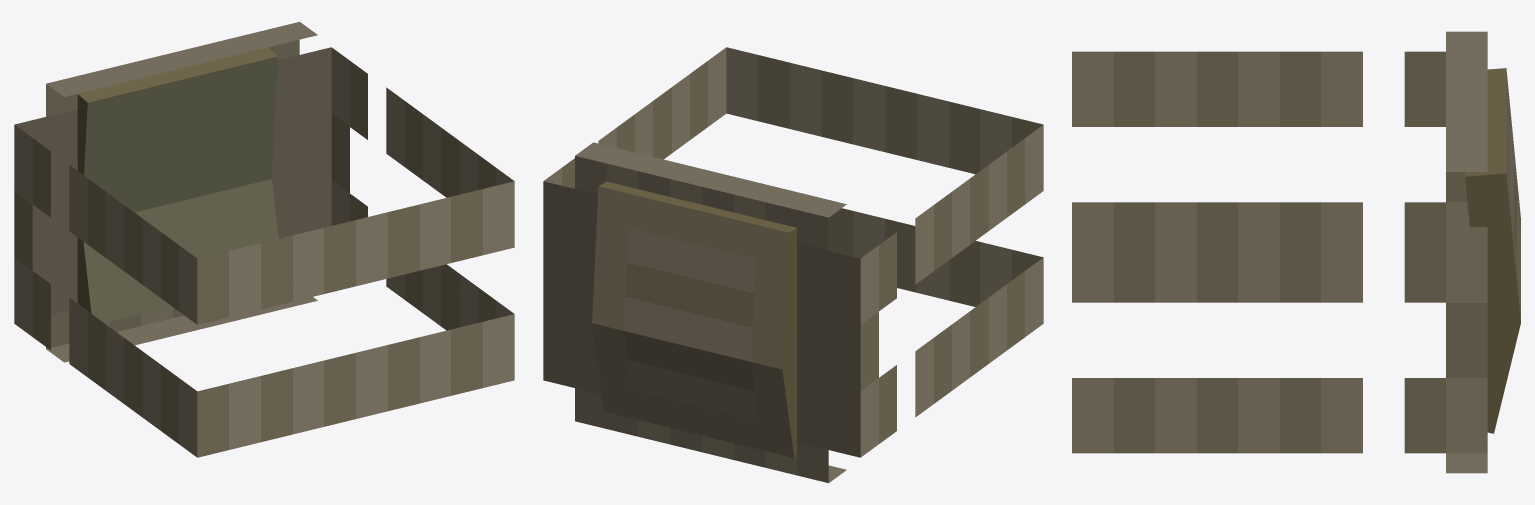
File: ukrainian_basic_kneepads_p_l.obj
3 views of the same model, side by side, from view 1: azimuth 30°, elevation 25°; view 2: azimuth 150°, elevation 25°; view 3: azimuth 270°, elevation 25° (orthographic). The views are drawn at different scales.
Parts seen in each view (by area): view 1: mesh; view 2: mesh; view 3: mesh.
Part boxes in pixels (<box>): mesh: <box>14,21,514,457</box>; mesh: <box>543,47,1043,483</box>; mesh: <box>1072,31,1520,473</box>.
Bounding box in the file's own units: 0.3125 × 0.25 × 0.3375.
